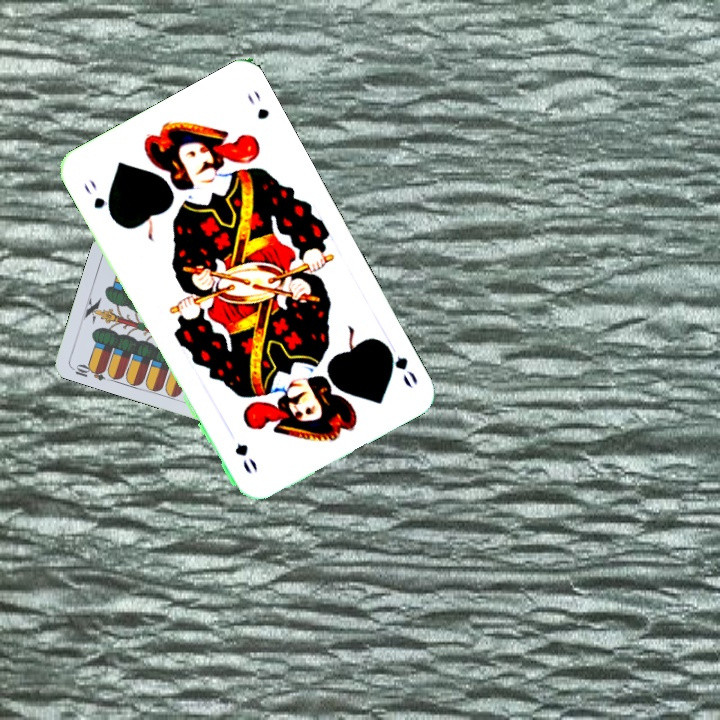E10: (68, 360, 108, 383)
GO: (379, 338, 421, 391), (79, 174, 117, 223)
